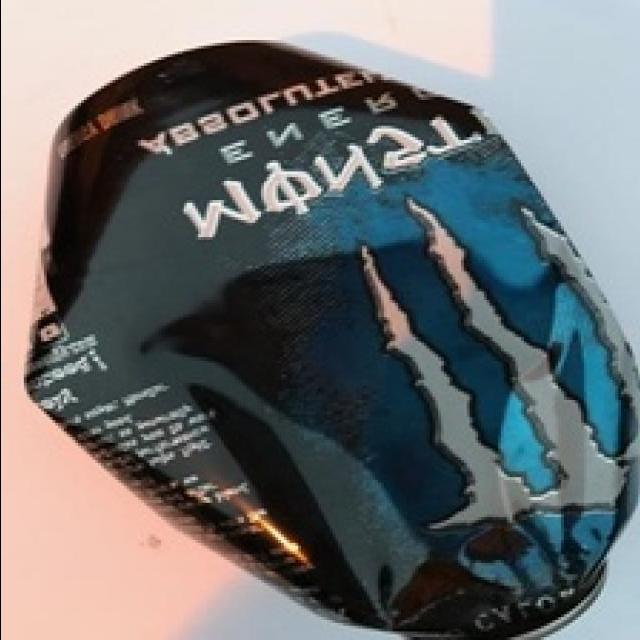can: (21, 41, 640, 640)
